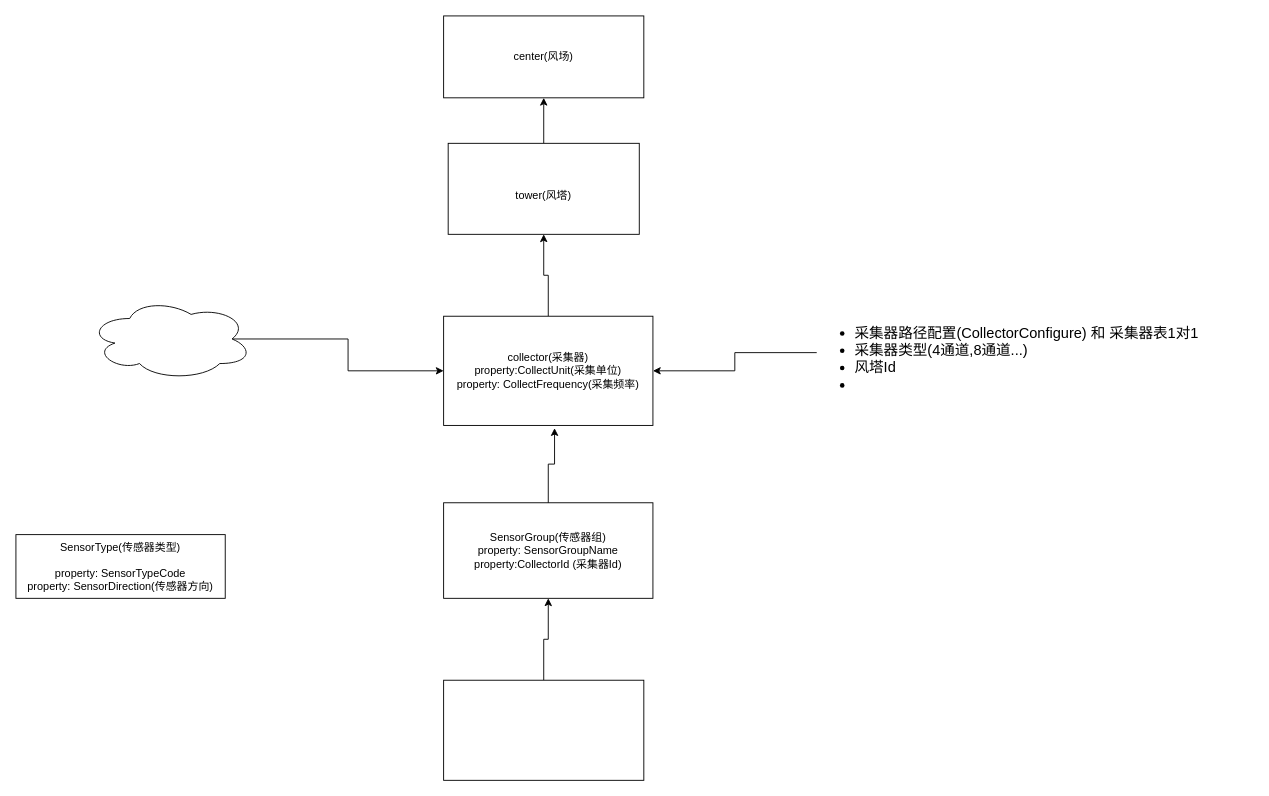
Image size: 1269x796. Some labels were removed from this diagram. Each missing label, with the box of its shape:
Sensor: (443, 679, 644, 780)
需手动添加条目: (88, 297, 253, 380)
